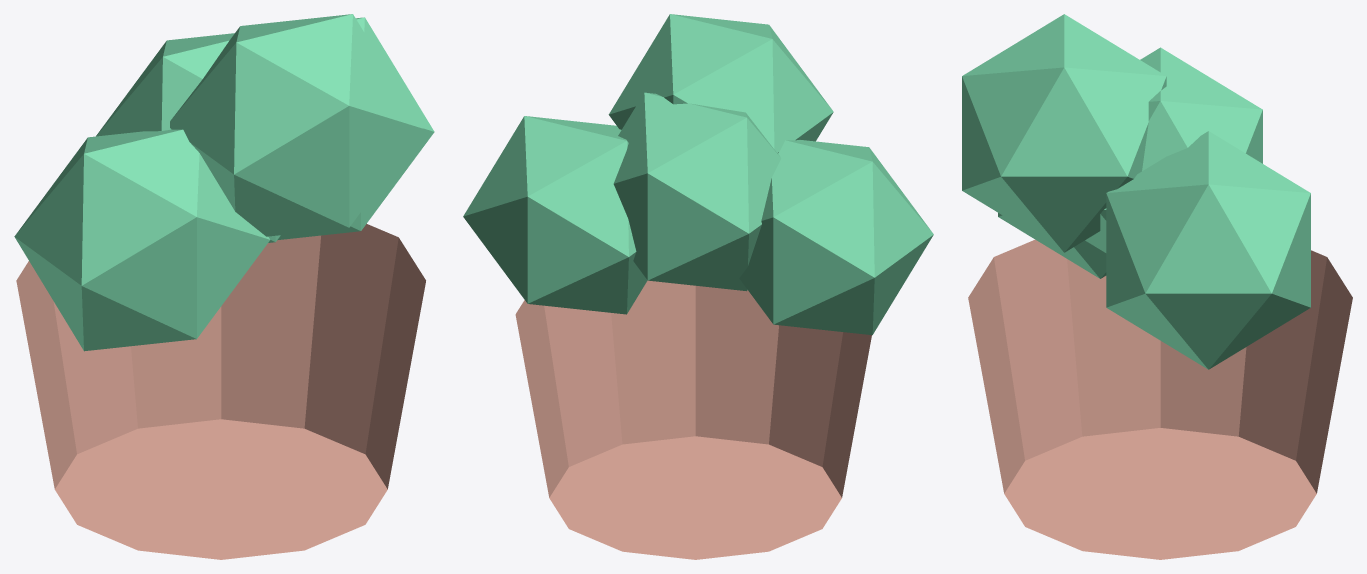
File: plant-erva.glb
The picture shows the model from 3 angles, left to right: view 1: azimuth 30°, elevation 25°; view 2: azimuth 150°, elevation 25°; view 3: azimuth 270°, elevation 25°; orthographic projection. The views are drawn at different scales.
Parts seen in each view (by area): view 1: Vaso, Folhagem; view 2: Folhagem, Vaso; view 3: Vaso, Folhagem.
Boxes of the visible parts, left/top/right/bottom form: Vaso: left=16, top=224, right=425, bottom=559; Folhagem: left=14, top=14, right=434, bottom=351; Folhagem: left=463, top=14, right=933, bottom=335; Vaso: left=515, top=280, right=871, bottom=559; Vaso: left=968, top=239, right=1352, bottom=559; Folhagem: left=962, top=14, right=1310, bottom=369.
Size of the model in its own units: 0.3701 by 0.4251 by 0.3251.
